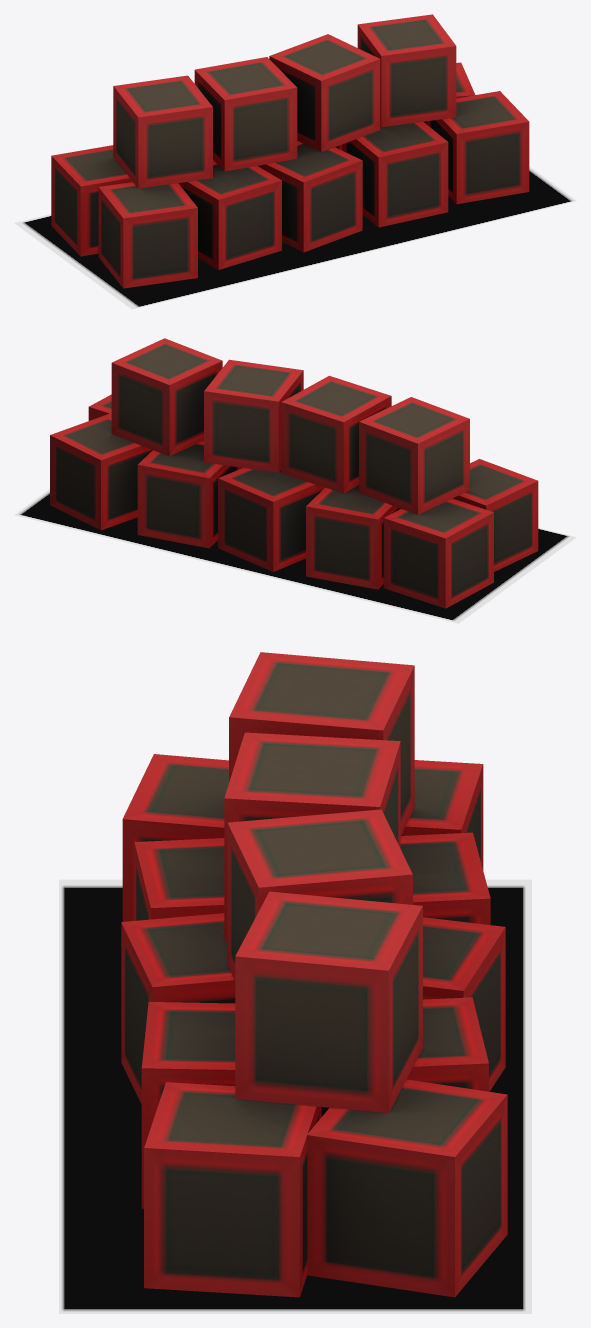
The model's file is 5x2_boxes.FBX.
3 renders of one model, top to bottom at view 1: azimuth 30°, elevation 25°; view 2: azimuth 150°, elevation 25°; view 3: azimuth 270°, elevation 25°, orthographic. The views are drawn at different scales.
Parts seen in each view (by area): view 1: 5x2_boxes, 5x2_boxes_soft_shadow; view 2: 5x2_boxes, 5x2_boxes_soft_shadow; view 3: 5x2_boxes, 5x2_boxes_soft_shadow.
Part boxes in pixels (x1,y1,x2,y2): 5x2_boxes: (51, 14, 529, 288); 5x2_boxes_soft_shadow: (14, 166, 576, 309); 5x2_boxes: (50, 338, 538, 608); 5x2_boxes_soft_shadow: (14, 489, 576, 623); 5x2_boxes: (121, 652, 507, 1297); 5x2_boxes_soft_shadow: (59, 879, 531, 1313).
Bounding box in the file's own units: 5051 × 1546 × 2325.
